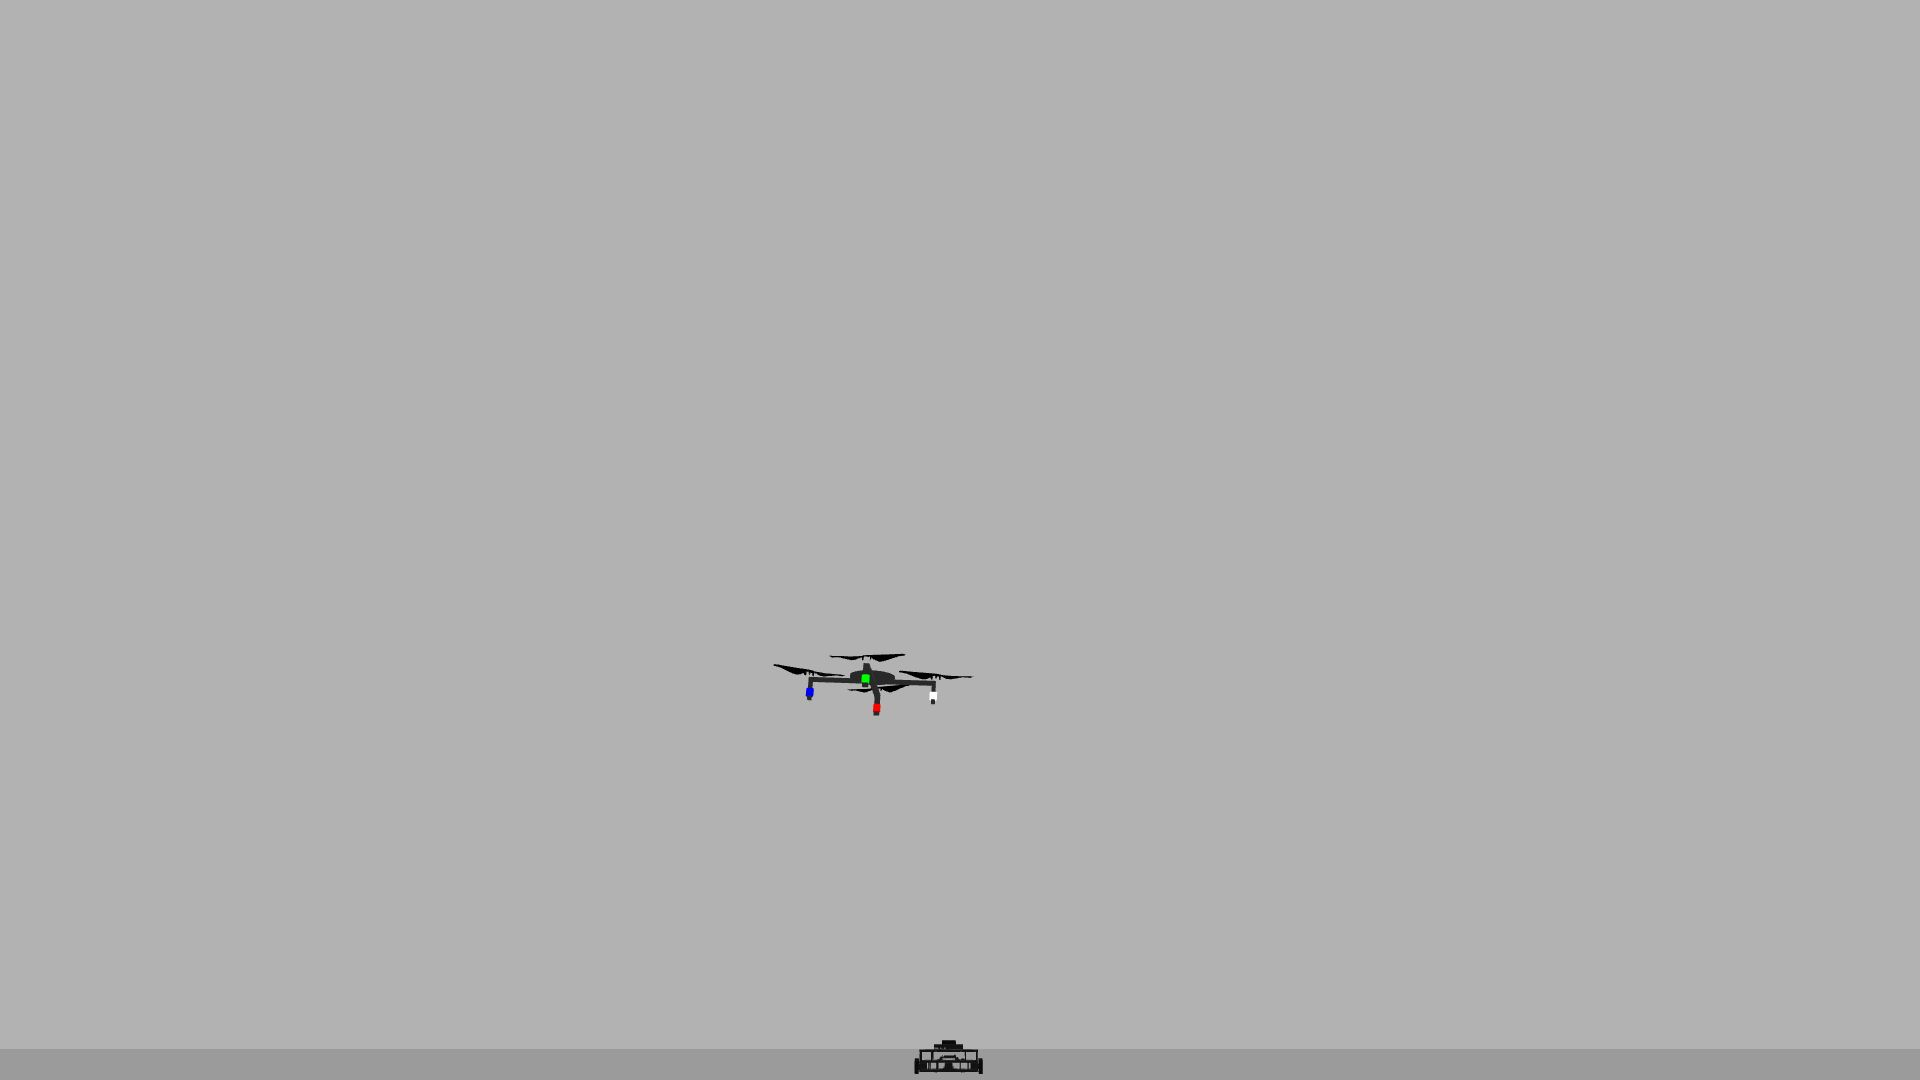drone: (764, 603, 984, 729)
